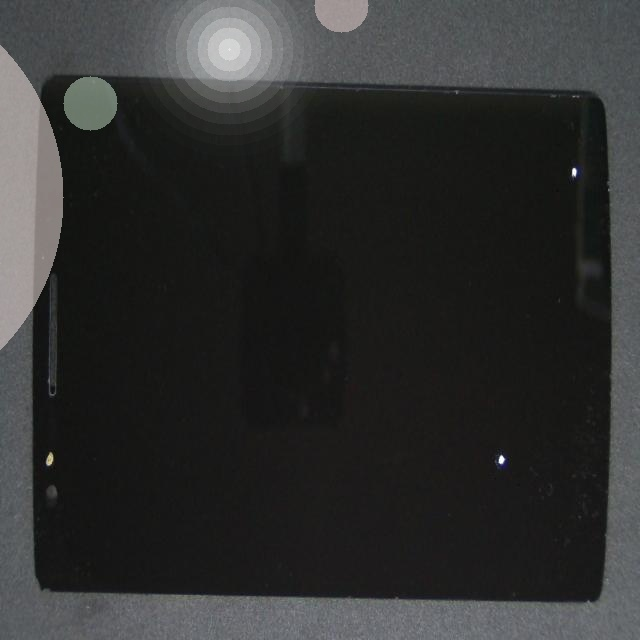stain: (238, 213, 640, 640), (286, 106, 640, 317), (15, 204, 52, 640)
